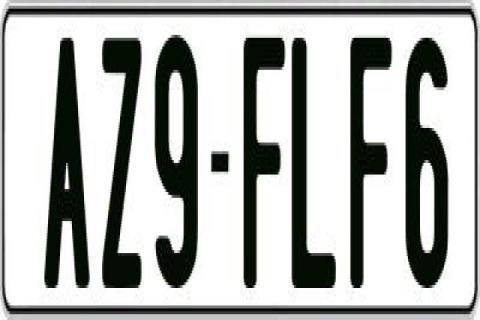0: (152, 29, 198, 297), (405, 35, 449, 299)
A: (44, 38, 90, 297)
F: (348, 29, 392, 291), (242, 35, 284, 299)
L: (292, 32, 342, 288)
Z: (100, 32, 146, 285)
